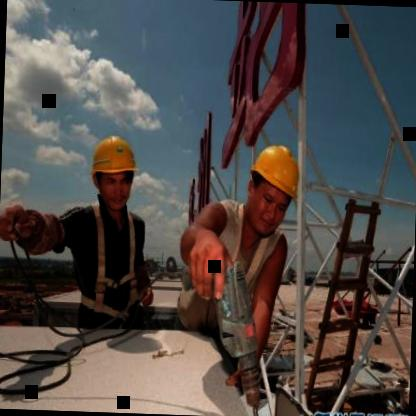helmet: (241, 136, 304, 235), (87, 127, 144, 213)
